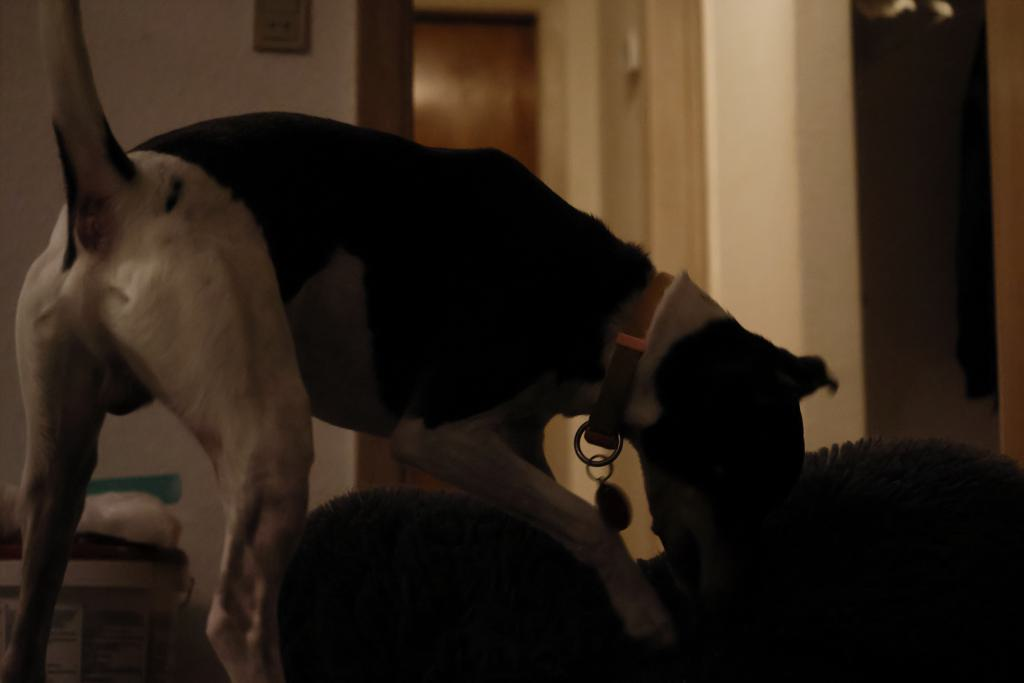Dog: (0, 0, 849, 683)
